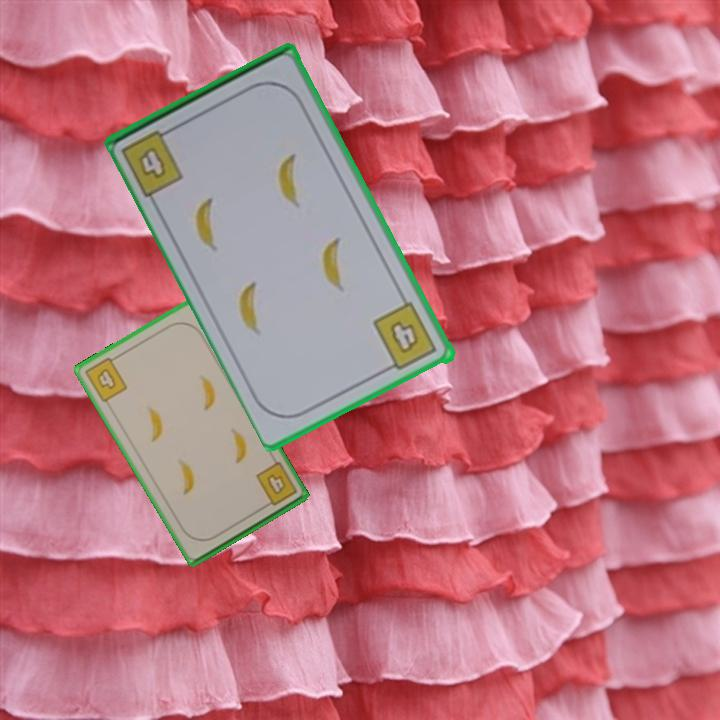4b: (370, 299, 441, 375), (81, 352, 130, 405), (252, 458, 300, 511), (135, 142, 170, 182)
